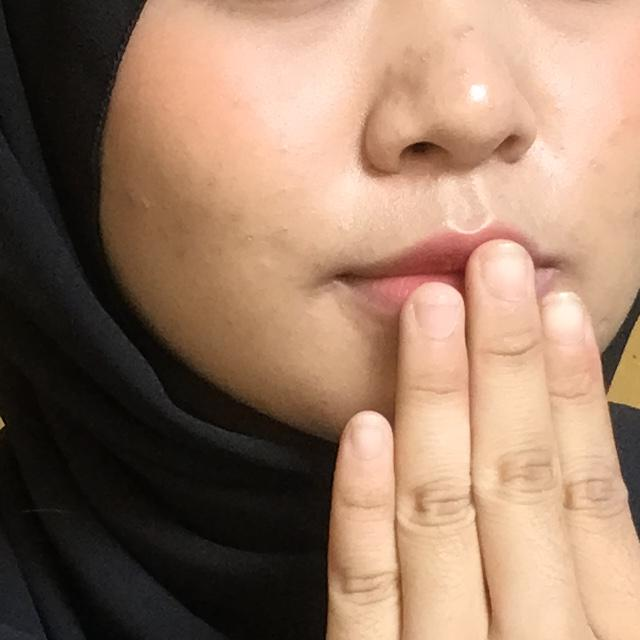ganteng: (250, 206, 640, 640)
